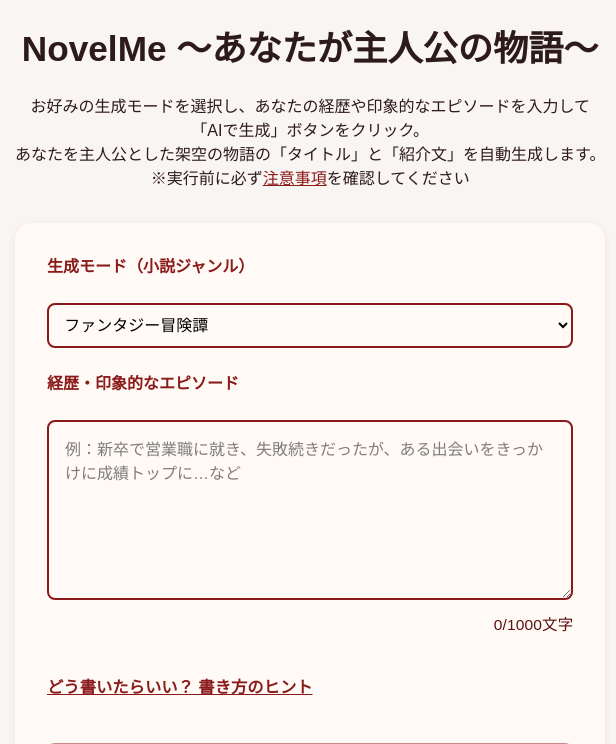
Test: Home(page.tsx) › 10文字未満でエラー表示
Type "短い" into the text box.
click(310, 510); type("短い")  # box [47, 420, 573, 600]
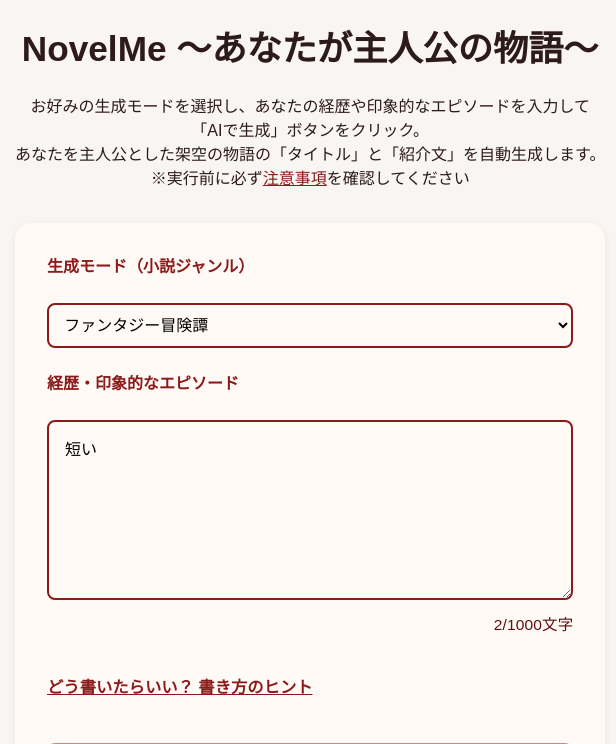
Leave the text box, box [47, 420, 573, 600]
(page scrolled)
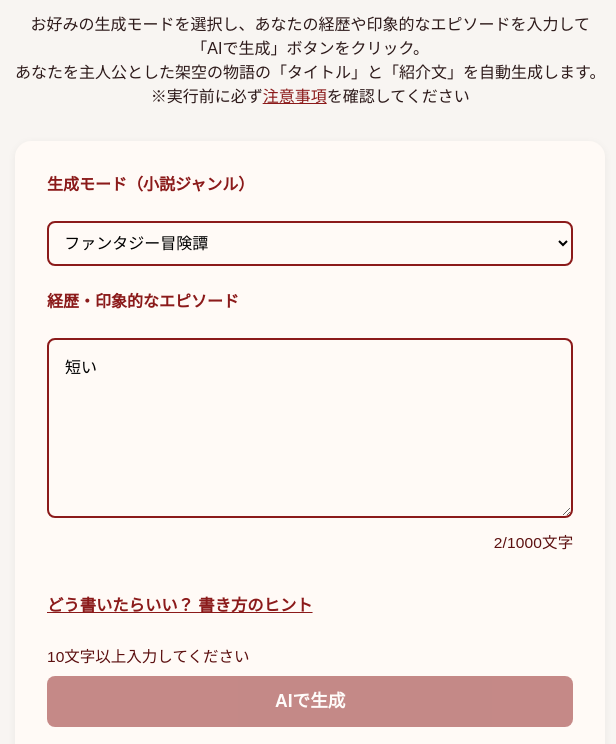
Expected: the button "AIで生成" is disabled, [47, 676, 573, 727]
Result: the text "10文字以上入力してください" is shown at [47, 648, 250, 665]
